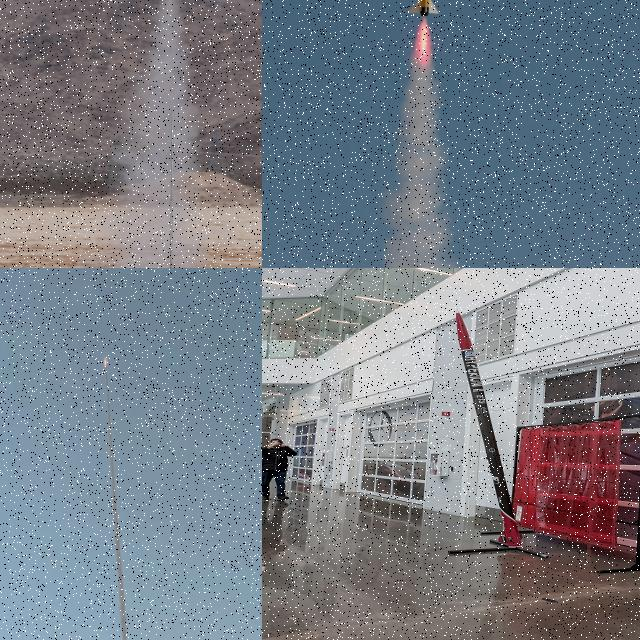Rocket: (456, 308, 523, 548), (104, 353, 106, 362)
